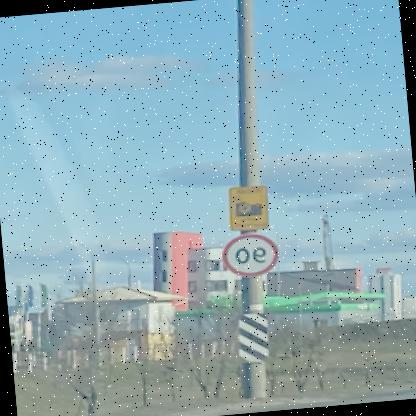speedlimit: (222, 231, 283, 278)
